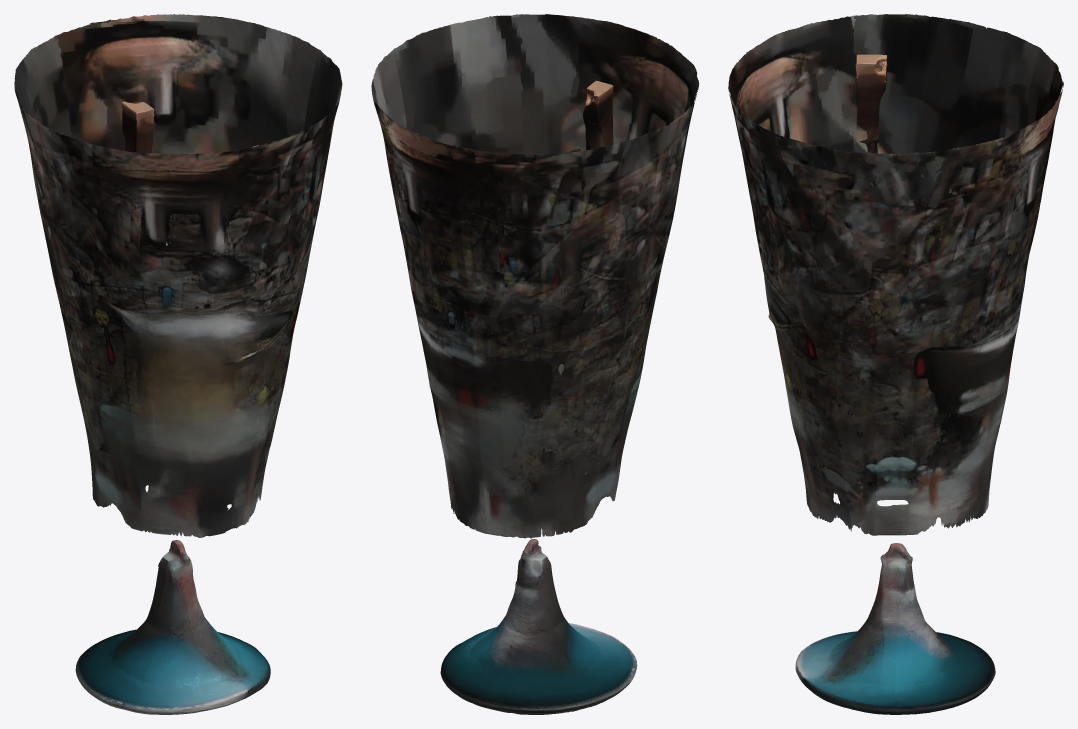
The picture shows the model from 3 angles, left to right: view 1: azimuth 30°, elevation 25°; view 2: azimuth 150°, elevation 25°; view 3: azimuth 270°, elevation 25°; orthographic projection.
Parts seen in each view (by area): view 1: part_1, part_0, part_2; view 2: part_1, part_0, part_2; view 3: part_1, part_0, part_2.
Part boxes in pixels (x1,y1,x2,y2): part_1: [14, 14, 342, 537]; part_0: [75, 540, 270, 714]; part_2: [121, 101, 154, 152]; part_1: [371, 14, 699, 538]; part_0: [440, 539, 637, 714]; part_2: [569, 80, 613, 152]; part_1: [728, 14, 1063, 535]; part_0: [795, 543, 995, 714]; part_2: [856, 54, 887, 153].
Size of the model in its own units: 0.5026 by 0.9983 by 0.5097.
3 materials, 3 textured.
